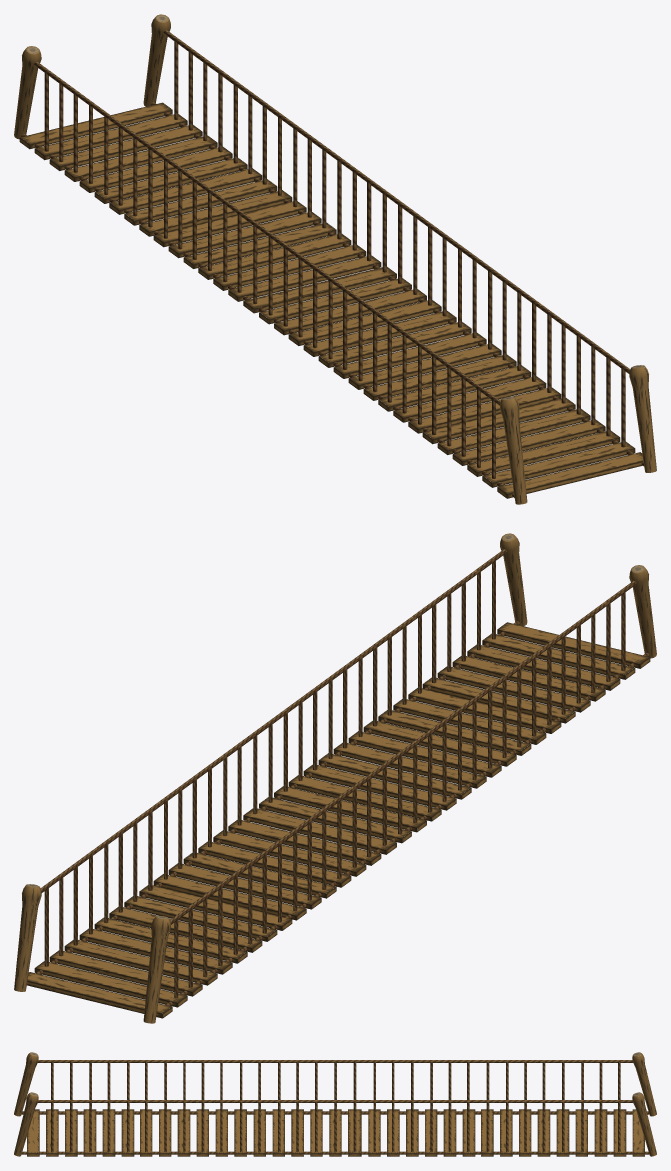
File: puente.fbx
3 views of the same model, one above another, from view 1: azimuth 30°, elevation 25°; view 2: azimuth 150°, elevation 25°; view 3: azimuth 270°, elevation 25° (orthographic). The views are drawn at different scales.
Parts seen in each view (by area): view 1: pCylinder73, pCylinder74, pCube18, pCube17, pCube16, pCube29, pCube35, pCube27, pCube36, pCube12, pCube23, pCube37 (+27 smaller); view 2: pCylinder74, pCylinder73, pCube29, pCube30, pCube31, pCube18, pCube22, pCube11, pCube17, pCube36, pCube7, pCube8 (+28 smaller); view 3: pCylinder74, pCylinder73, pCylinder70, pCylinder71, pCylinder69, pCylinder72, pCube7, pCube10, pCube11, pCube12, pCube23, pCube24 (+35 smaller).
Boxes of the visible parts, x1,y1,x2,y2 form: pCylinder73: (34,61,500,405); pCylinder74: (163,30,630,373); pCube18: (497,452,643,498); pCube17: (482,441,635,487); pCube16: (467,430,620,476); pCube29: (19,102,172,149); pCube35: (198,234,351,279); pCube27: (183,222,336,268); pCube36: (213,245,366,290); pCube12: (452,419,605,465); pCube23: (79,146,232,192); pCube37: (228,255,381,301); pCylinder74: (40,549,507,892); pCylinder73: (170,580,636,924); pCube29: (27,972,172,1018); pCube30: (34,961,187,1007); pCube31: (49,950,202,996); pCube18: (497,622,650,668); pCube22: (64,940,217,985); pCube11: (437,666,590,712); pCube17: (482,633,635,679); pCube36: (213,830,366,876); pCube7: (378,710,531,755); pCube8: (393,699,546,744); pCylinder74: (38,1100,632,1102); pCylinder73: (38,1060,632,1062); pCylinder70: (632,1052,656,1116); pCylinder71: (14,1052,38,1116); pCylinder69: (632,1092,656,1156); pCylinder72: (14,1092,38,1156); pCube7: (177,1109,190,1156); pCube10: (121,1109,134,1156); pCube11: (102,1109,115,1156); pCube12: (83,1109,96,1156); pCube23: (556,1109,569,1156); pCube24: (537,1109,550,1156).
Size of the model in its own units: 4.54 by 2.89 by 27.13.
